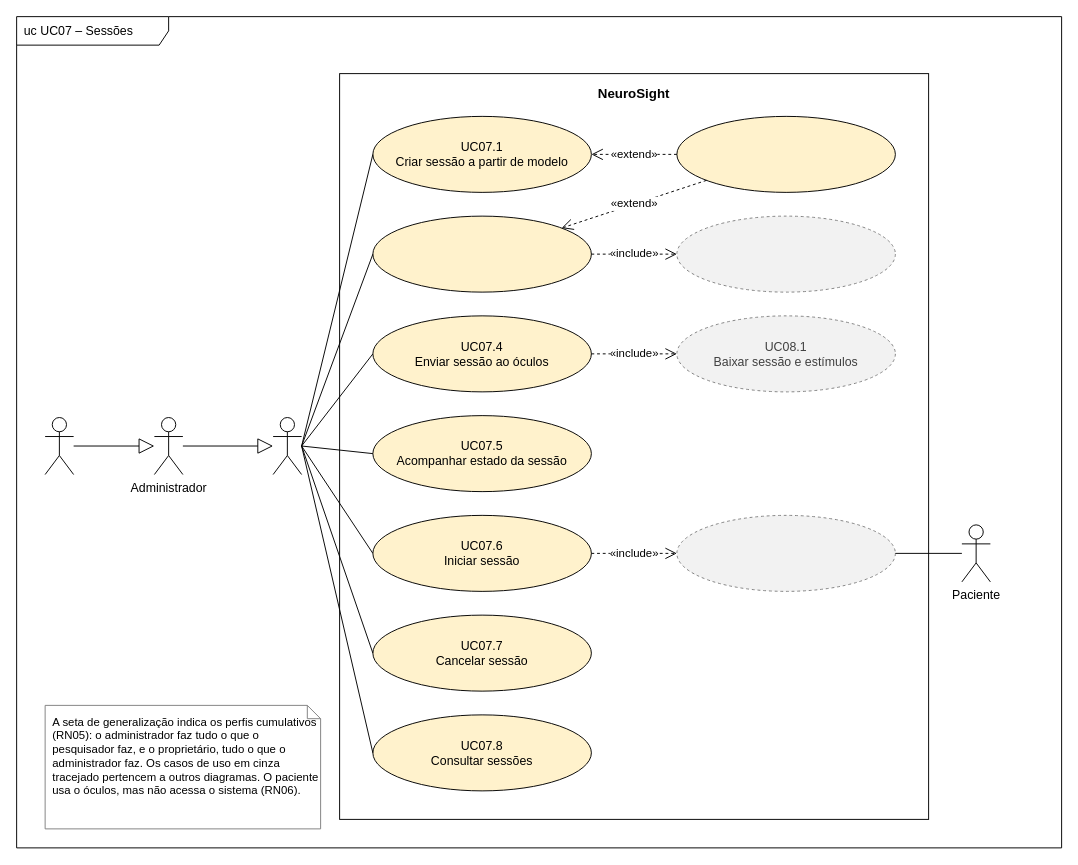
The diagram is 1078 pixels wide and 865 high, and some of its shapes have lost their labels. Here are the shapes that lost their labels. From the top down, the centre of each, then its label:
At point 785,153: "UC07.3 Registrar estado clínico do dia".
At point 481,253: "UC07.2 Criar sessão personalizada".
At point 785,253: "UC06.6 Montar sequência de estímulos".
At point 59,446: "Proprietário".
At point 287,446: "Pesquisador".
At point 785,552: "UC08.3 Executar sessão".
